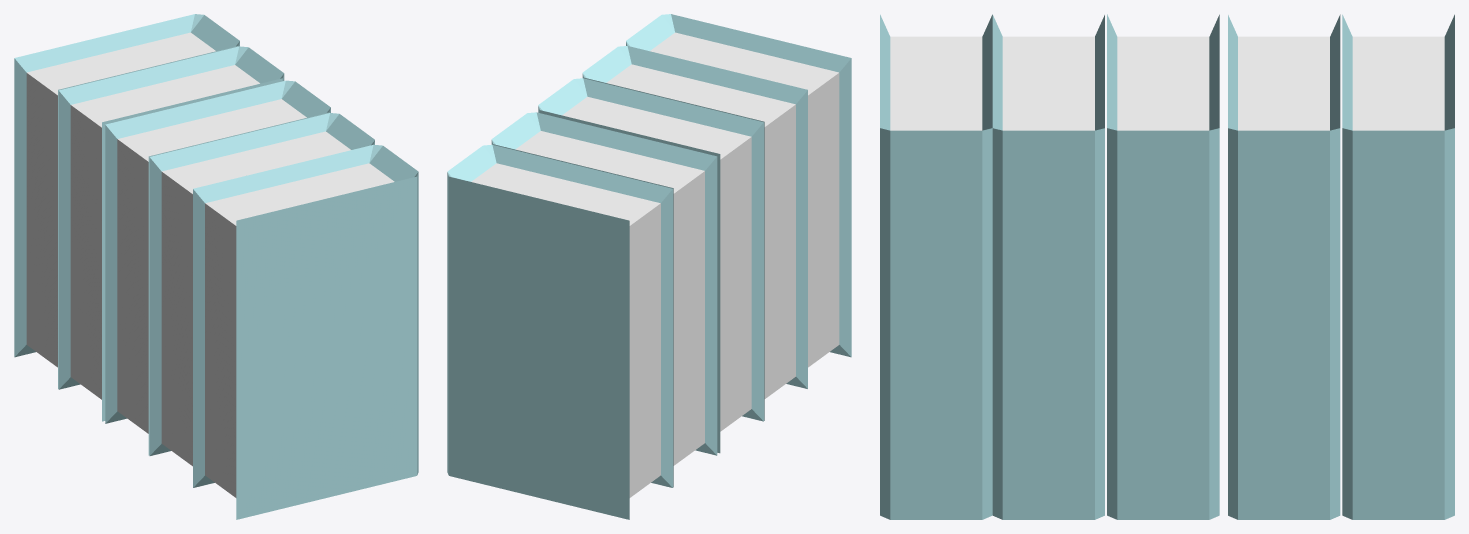
Rendered from bookstack-by-vr-eugene-1CnEEUuN4nY.glb.
3 renders of one model, left to right at view 1: azimuth 30°, elevation 25°; view 2: azimuth 150°, elevation 25°; view 3: azimuth 270°, elevation 25°, orthographic. The views are drawn at different scales.
Parts seen in each view (by area): view 1: group1861746956, group2133177940, group492566627, group16664089, group32384503; view 2: group16664089, group492566627, group2133177940, group32384503, group1861746956; view 3: group492566627, group2133177940, group16664089, group1861746956, group32384503.
Boxes of the visible parts, x1=… form: group1861746956: x1=193, y1=144, x2=418, y2=519; group2133177940: x1=58, y1=46, x2=284, y2=421; group492566627: x1=105, y1=80, x2=330, y2=455; group16664089: x1=14, y1=14, x2=239, y2=388; group32384503: x1=149, y1=113, x2=374, y2=466; group16664089: x1=447, y1=144, x2=672, y2=519; group492566627: x1=538, y1=78, x2=763, y2=453; group2133177940: x1=491, y1=112, x2=717, y2=487; group32384503: x1=582, y1=46, x2=807, y2=420; group1861746956: x1=626, y1=14, x2=851, y2=367; group492566627: x1=1107, y1=14, x2=1219, y2=519; group2133177940: x1=1228, y1=14, x2=1340, y2=519; group16664089: x1=1342, y1=14, x2=1454, y2=519; group1861746956: x1=880, y1=14, x2=992, y2=519; group32384503: x1=992, y1=15, x2=1104, y2=519.
Bounding box in the file's own units: 0.272 × 0.42 × 0.562.
